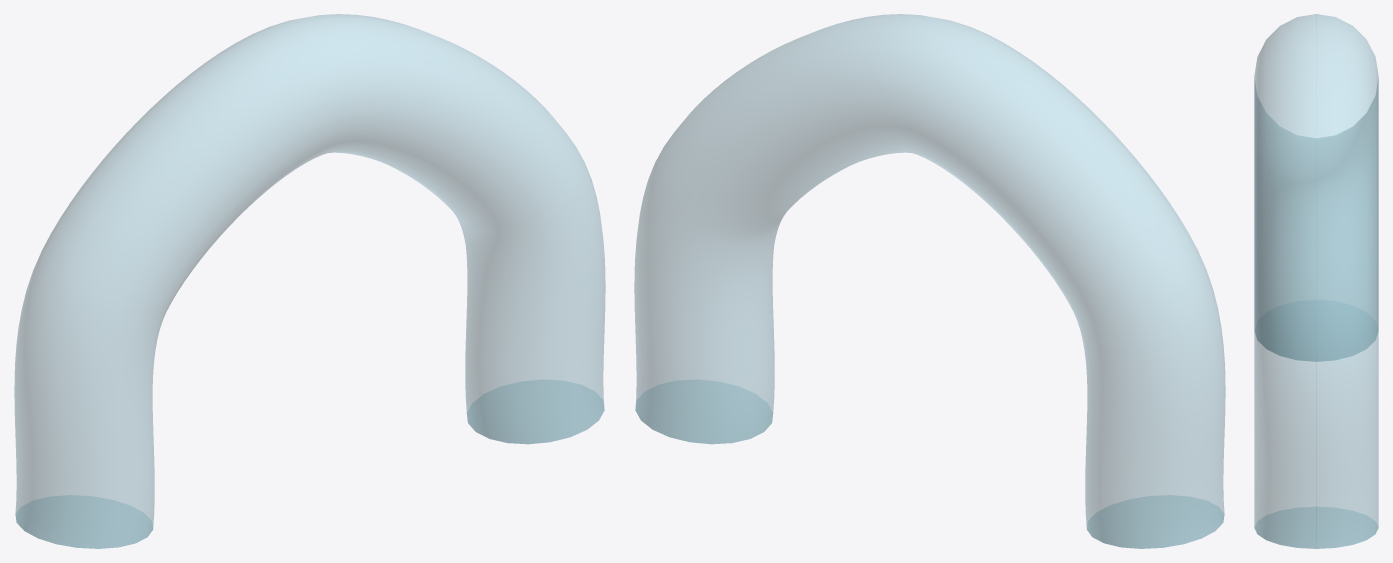
3 views of the same model, side by side, from view 1: azimuth 30°, elevation 25°; view 2: azimuth 150°, elevation 25°; view 3: azimuth 270°, elevation 25° (orthographic). The views are drawn at different scales.
Parts seen in each view (by area): view 1: gel-body; view 2: gel-body; view 3: gel-body.
Part boxes in pixels (x1,y1,x2,y2): gel-body: (14, 14, 605, 548); gel-body: (634, 14, 1225, 548); gel-body: (1254, 14, 1378, 548).
Bounding box in the file's own units: 2.29 × 1.71 × 0.48.
